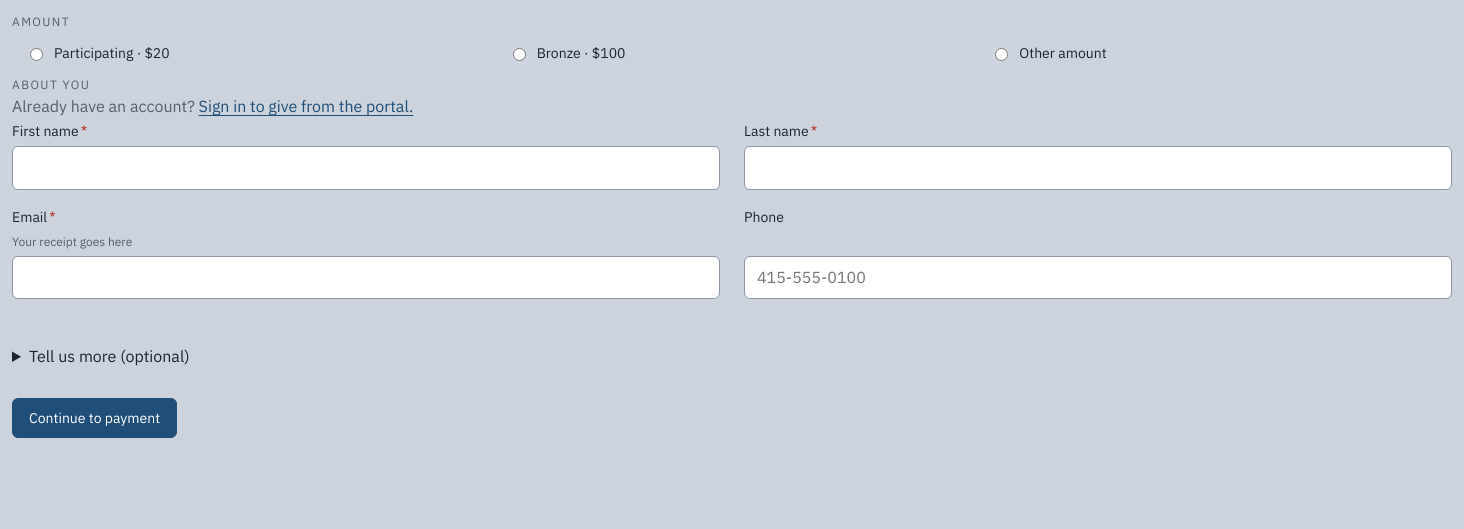
Scenario: DonationForm › refuses to continue without an amount
This screenshot has width=1464, height=529.
Click the button "Continue to payment": click(95, 418) [12,398,177,438]
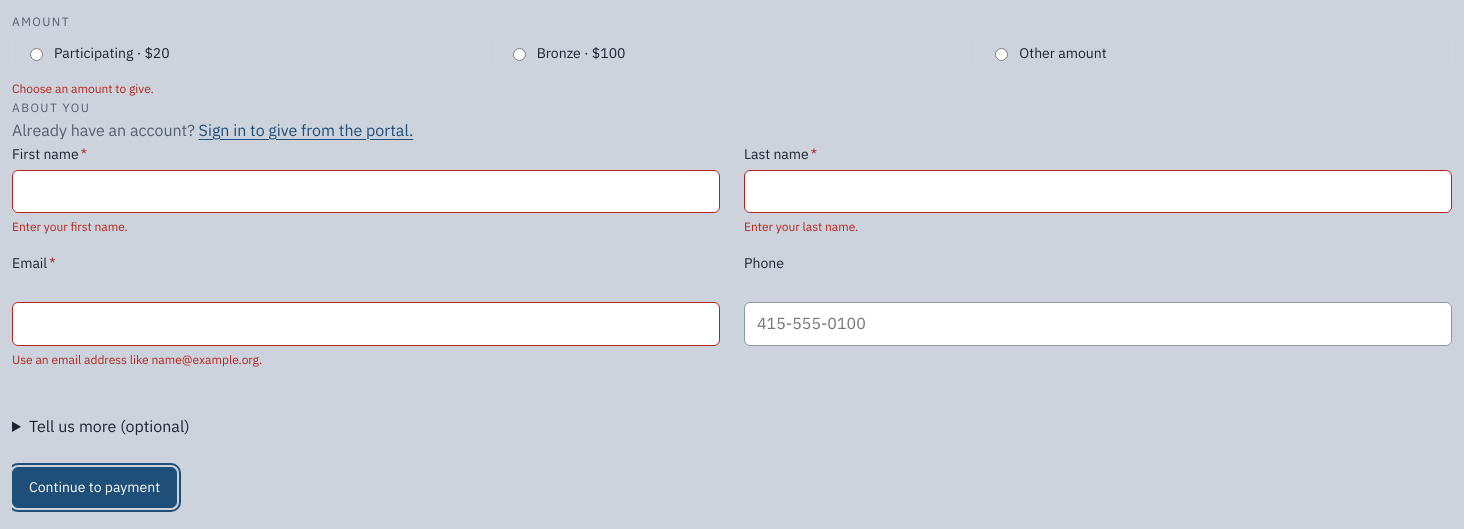
Result: the text "Choose an amount to give." is shown at [12,81,154,96]
